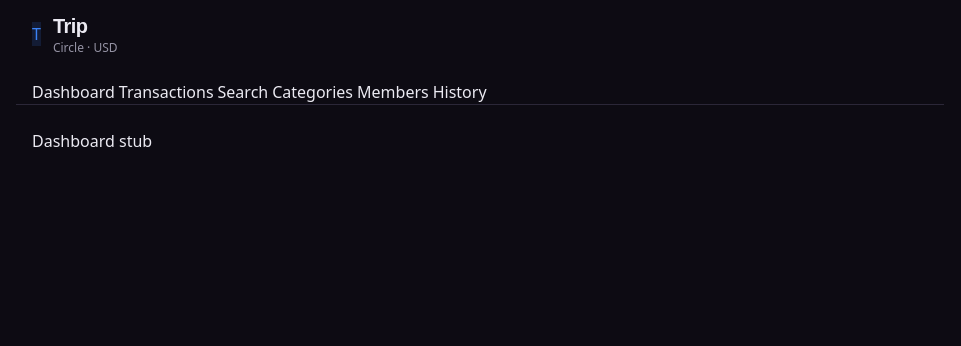
Test: CircleLayout shell skeleton › waits past the flicker delay before showing the skeleton (no immediate flash)
Expected: the heading "Dashboard stub" is shown, [32,130,152,152]
Click the link "Transactions" at (166, 92), box [119,80,214,104]
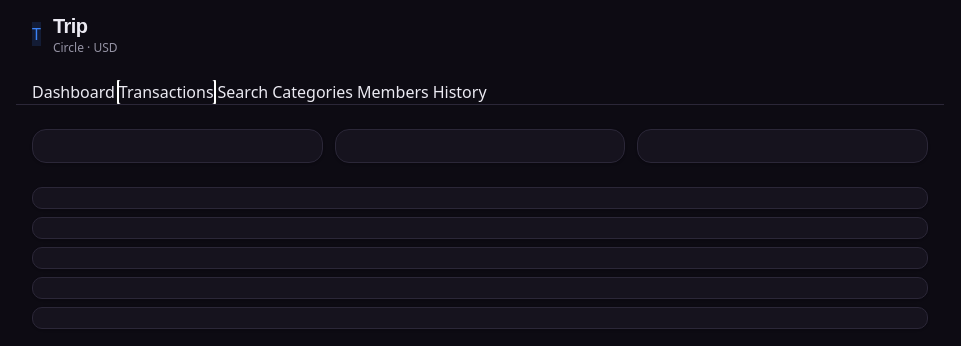
Now the message with test id "route-skeleton" is shown, box [32,129,928,329]
